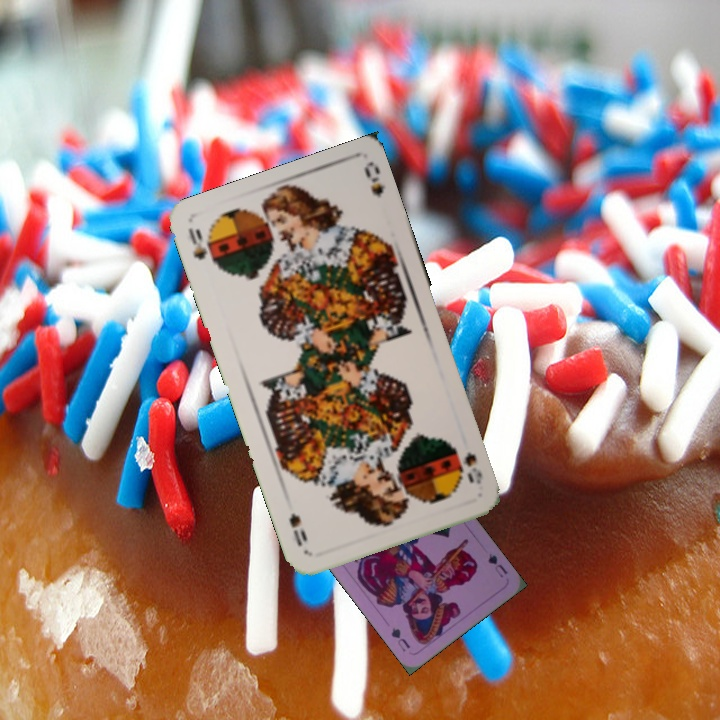GU: (483, 549, 511, 580)
SO: (451, 443, 485, 487), (184, 223, 218, 266)
